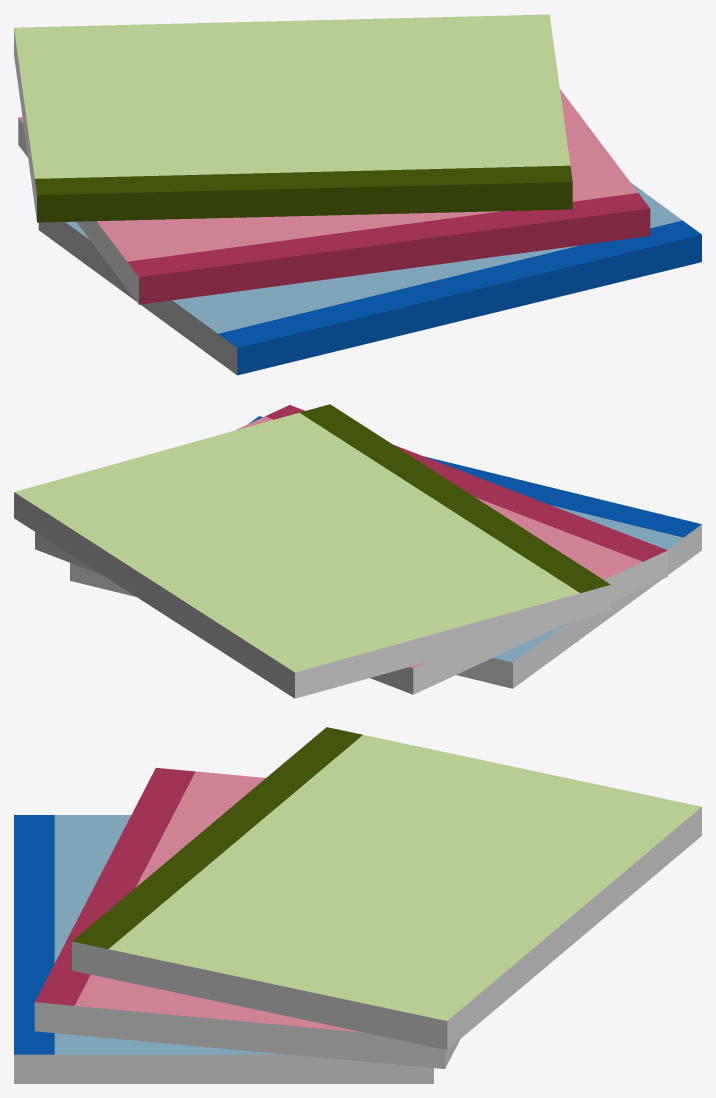
Rendered from note_takusan.fbx.
The picture shows the model from 3 angles, top to bottom: view 1: azimuth 30°, elevation 25°; view 2: azimuth 150°, elevation 25°; view 3: azimuth 270°, elevation 25°; orthographic projection. The views are drawn at different scales.
Parts seen in each view (by area): view 1: midori, aka, ao; view 2: midori, aka, ao; view 3: midori, aka, ao.
Part boxes in pixels (x1,y1,x2,y2): midori: (14, 14, 572, 222); aka: (18, 89, 650, 304); ao: (38, 183, 701, 375); midori: (14, 404, 610, 698); aka: (35, 405, 667, 694); ao: (70, 416, 701, 688); midori: (72, 727, 701, 1049); aka: (34, 768, 460, 1068); ao: (14, 815, 433, 1083).
Size of the model in its own units: 5.33 by 0.7602 by 5.27.
